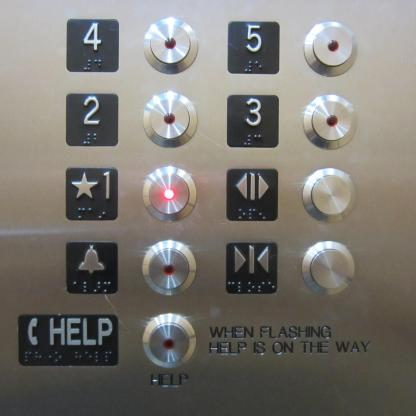2: (65, 92, 119, 146)
3: (226, 94, 280, 148)
4: (66, 19, 122, 73)
5: (226, 19, 282, 74)
alarm: (63, 240, 121, 298)
call: (16, 312, 121, 366)
close: (225, 240, 279, 294)
empty: (139, 89, 199, 148), (141, 15, 198, 76), (302, 20, 358, 78), (141, 238, 197, 296), (142, 164, 197, 223), (140, 312, 197, 368), (301, 238, 356, 296), (300, 94, 358, 148), (303, 167, 357, 223)
open: (225, 167, 280, 223)
s1: (63, 165, 121, 222)
